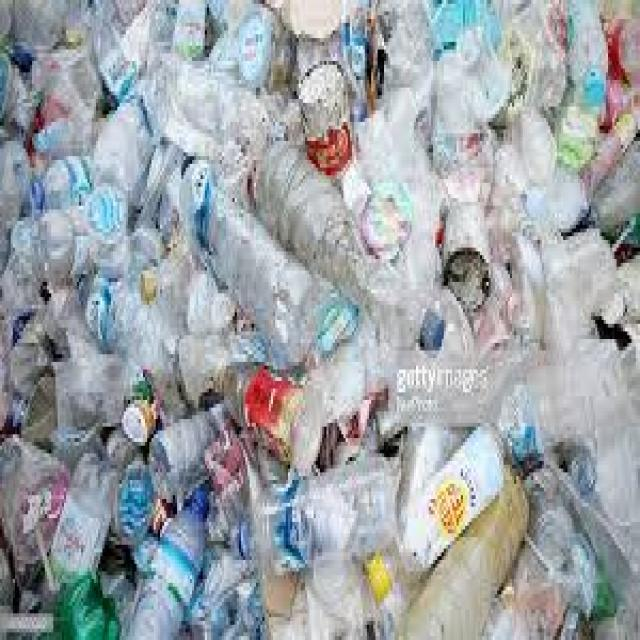plastic_bottle: (133, 136, 359, 391), (470, 291, 640, 451), (242, 442, 424, 579)
